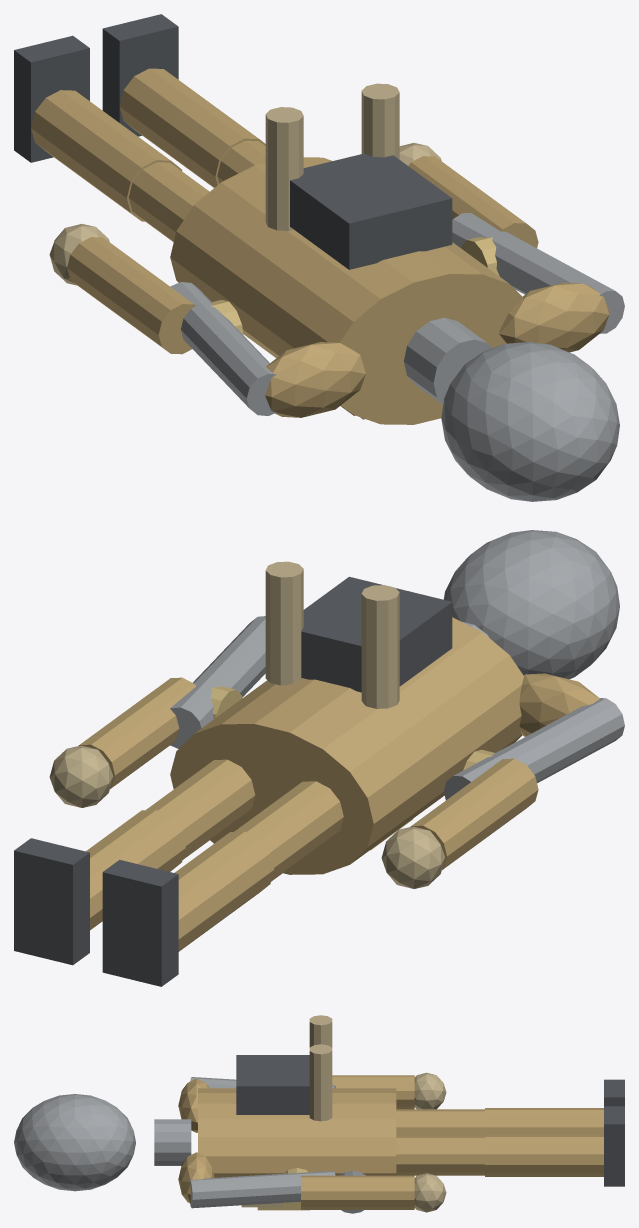
File: SWN-016_aya_gearhart.glb
3 views of the same model, one above another, from view 1: azimuth 30°, elevation 25°; view 2: azimuth 150°, elevation 25°; view 3: azimuth 270°, elevation 25° (orthographic). The views are drawn at different scales.
Visible parts, largest first — view 1: body_spine, head, back_thruster_pack, greave_-1, greave_1, forearm_gauntlet_-1, shoulder_plate_-1, upper_arm_-1, boot_-1, shoulder_plate_1, boot_1, upper_arm_1 (+8 smaller); view 2: body_spine, head, back_thruster_pack, boot_-1, boot_1, greave_-1, forearm_gauntlet_-1, upper_arm_-1, thigh_-1, thigh_1, forearm_gauntlet_1, greave_1 (+7 smaller); view 3: body_spine, head, greave_1, back_thruster_pack, forearm_gauntlet_1, thigh_1, upper_arm_1, greave_-1, thigh_-1, aether_thruster_1, neck, boot_1 (+8 smaller).
Boxes of the visible parts, x1,y1,x2,y2 form: body_spine: (170, 157, 523, 424); head: (441, 342, 619, 501); back_thruster_pack: (290, 153, 452, 269); greave_-1: (31, 90, 182, 221); greave_1: (119, 68, 265, 187); forearm_gauntlet_-1: (67, 237, 195, 354); shoulder_plate_-1: (265, 342, 366, 417); upper_arm_-1: (170, 282, 276, 415); boot_-1: (14, 35, 89, 162); shoulder_plate_1: (499, 282, 609, 352); boot_1: (102, 14, 178, 136); upper_arm_1: (452, 213, 624, 333); body_spine: (170, 617, 523, 874); head: (443, 530, 619, 679); back_thruster_pack: (301, 576, 452, 692); boot_-1: (102, 859, 178, 986); boot_1: (14, 838, 89, 965); greave_-1: (174, 831, 274, 951); forearm_gauntlet_-1: (410, 758, 538, 869); upper_arm_-1: (444, 698, 624, 800); thigh_-1: (234, 781, 343, 881); thigh_1: (146, 759, 255, 859); forearm_gauntlet_1: (78, 677, 195, 788); greave_1: (86, 810, 185, 930); body_spine: (198, 1088, 396, 1177); head: (14, 1094, 135, 1191); greave_1: (485, 1135, 603, 1176); back_thruster_pack: (236, 1055, 309, 1114); forearm_gauntlet_1: (301, 1175, 414, 1209); thigh_1: (396, 1136, 484, 1175); upper_arm_1: (190, 1171, 335, 1208); greave_-1: (485, 1108, 603, 1134); thigh_-1: (396, 1109, 484, 1136); aether_thruster_1: (309, 1044, 332, 1121); neck: (154, 1119, 191, 1165); boot_1: (604, 1106, 624, 1186).
Size of the model in its own units: 1.05 by 0.695 by 2.31.
